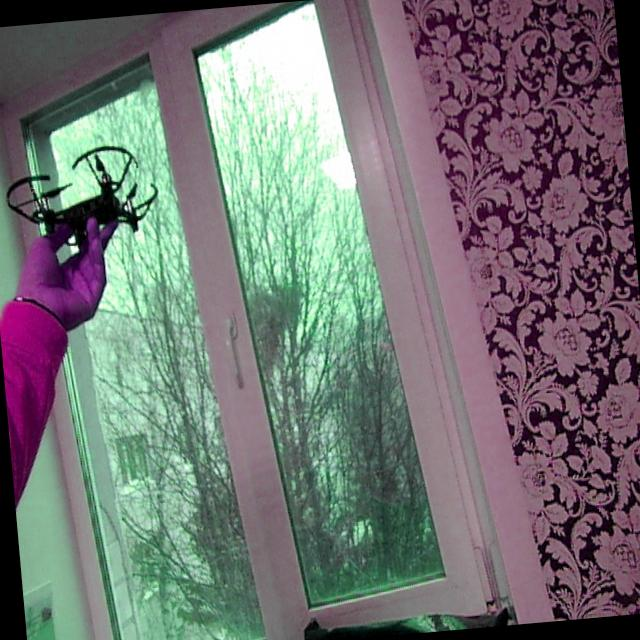drone: (0, 141, 172, 266)
